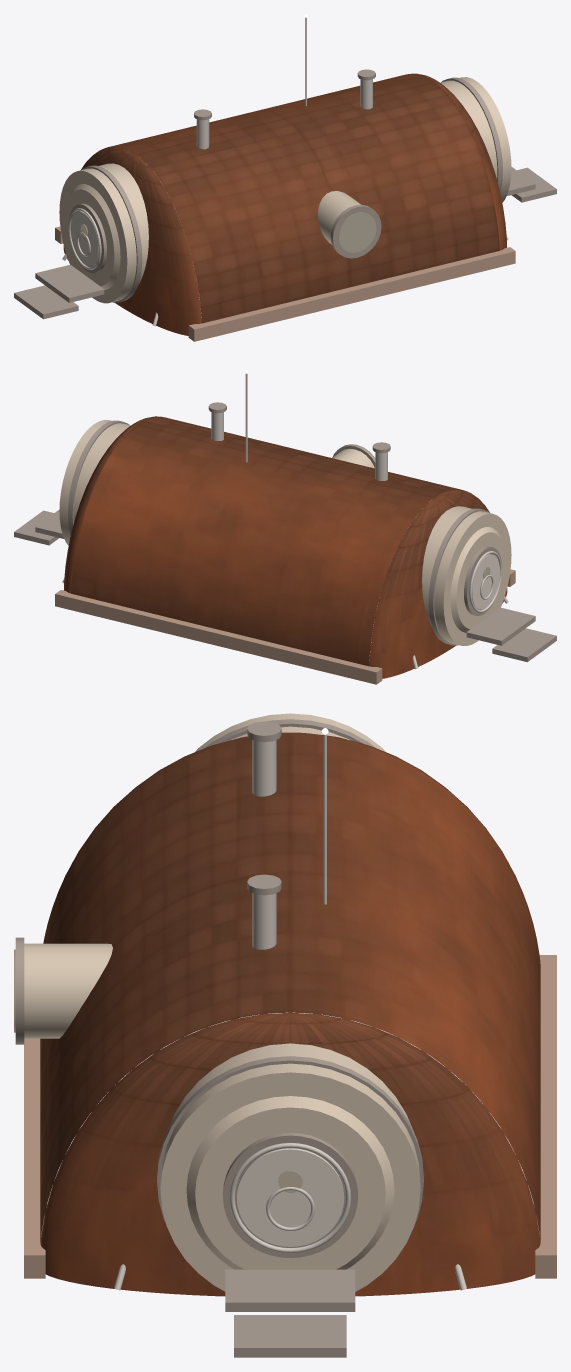
Rendered from W06_buried_habitat_10m.glb.
The picture shows the model from 3 angles, top to bottom: view 1: azimuth 30°, elevation 25°; view 2: azimuth 150°, elevation 25°; view 3: azimuth 270°, elevation 25°; orthographic projection. The views are drawn at different scales.
Parts seen in each view (by area): view 1: regolith_mound, hull_end, mound_end, end_ring, retaining_wall, seal, porthole; view 2: regolith_mound, hull_end, mound_end, end_ring, retaining_wall, seal; view 3: regolith_mound, mound_end, hull_end, end_ring, retaining_wall, seal.
Boxes of the visible parts, x1,y1,x2,y2 form: regolith_mound: (104,73,499,323); hull_end: (59,77,511,303); mound_end: (63,73,506,335); end_ring: (14,69,556,319); retaining_wall: (55,226,515,341); seal: (62,17,508,326); porthole: (80,212,376,252); regolith_mound: (71,416,467,666); hull_end: (59,420,511,645); mound_end: (63,416,507,678); end_ring: (14,402,556,662); retaining_wall: (55,569,515,684); seal: (62,373,508,668); regolith_mound: (40,734,540,1242); mound_end: (40,732,540,1296); hull_end: (24,713,420,1291); end_ring: (15,719,423,1357); retaining_wall: (24,955,556,1278); seal: (114,734,466,1290).
Size of the model in its own units: 13.1 by 5.49 by 6.26.
Materials: 8 (2 with a texture image).
